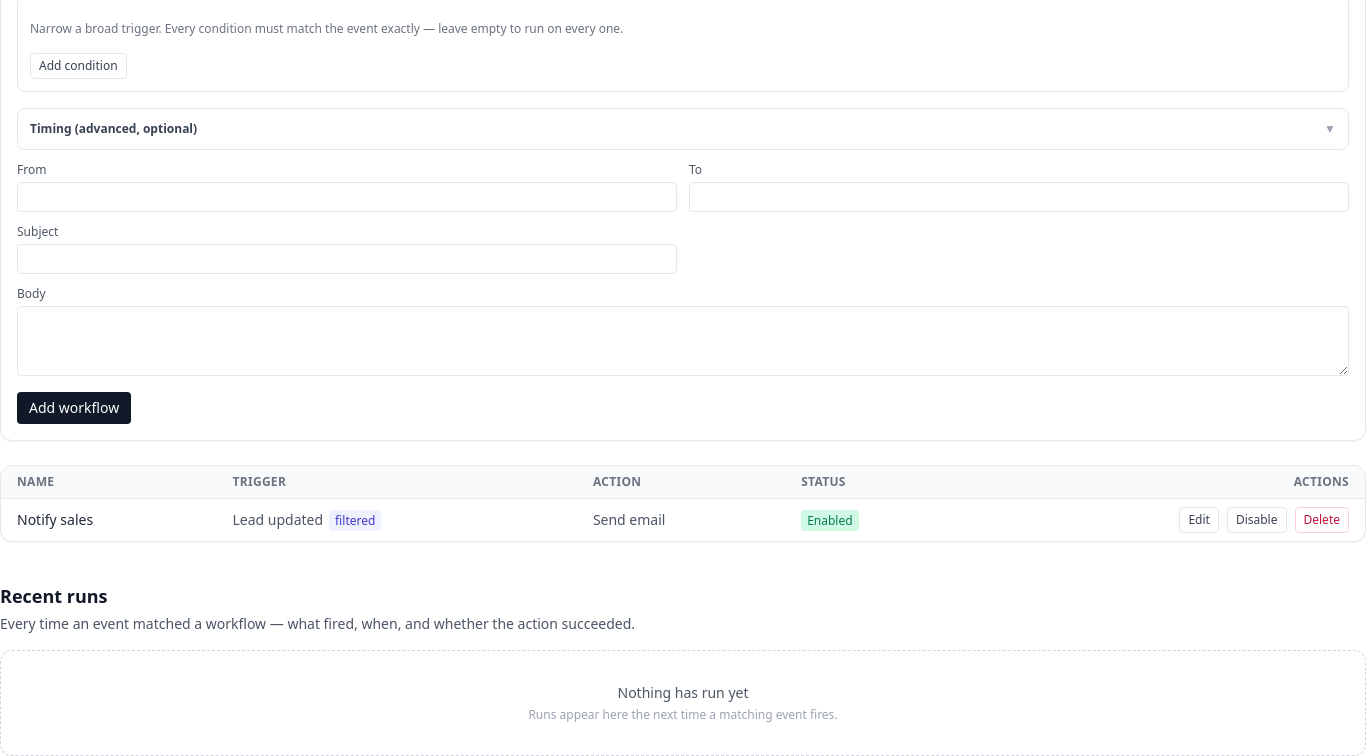
it: OrchestrationPage › loads an existing filter on an undeclared field via the custom escape hatch
(page scrolled)
Click the button "Edit" at (1199, 520), box 1179,507 -> 1219,533
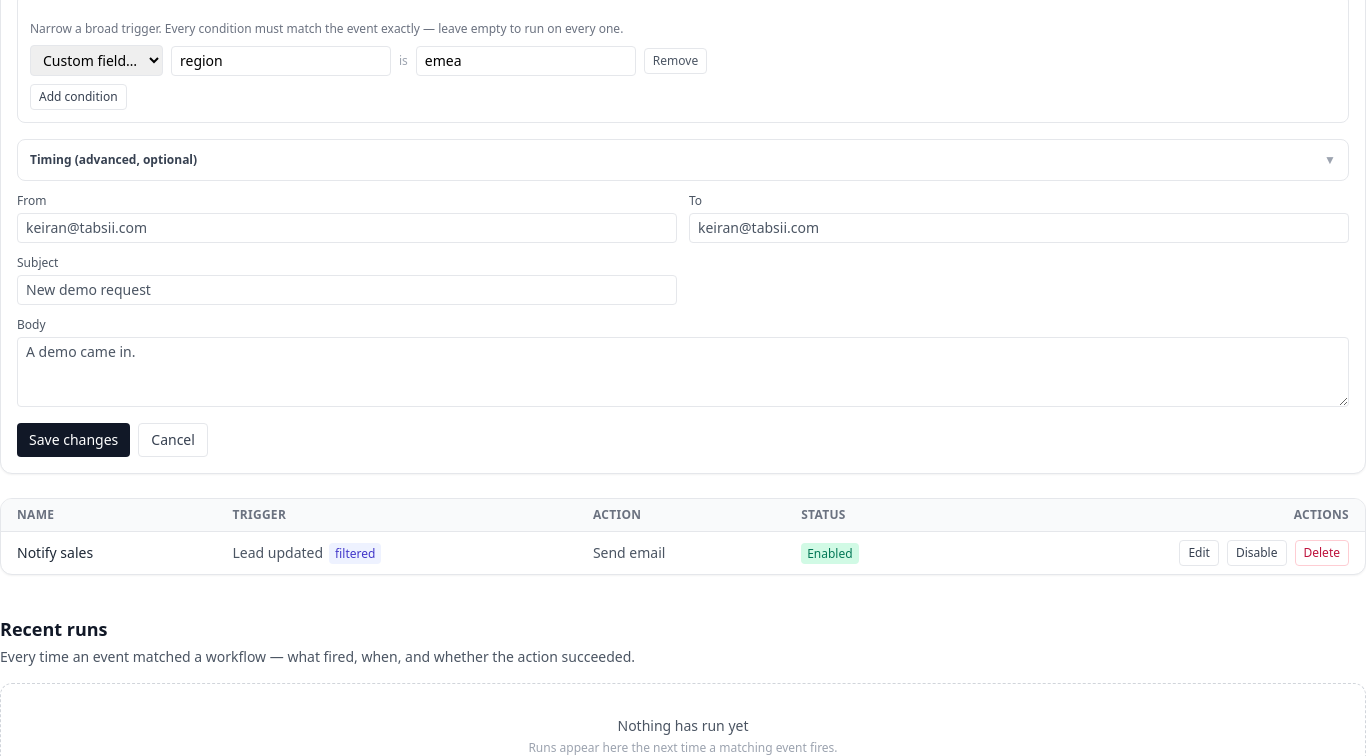
Expected: the dropdown named "Condition 1 field" shows "Custom field…", 30,45 -> 163,76
Expected: the field named "Condition 1 custom field" holds "region", 171,46 -> 391,76
Expected: the field named "Condition 1 value" holds "emea", 416,46 -> 636,76
